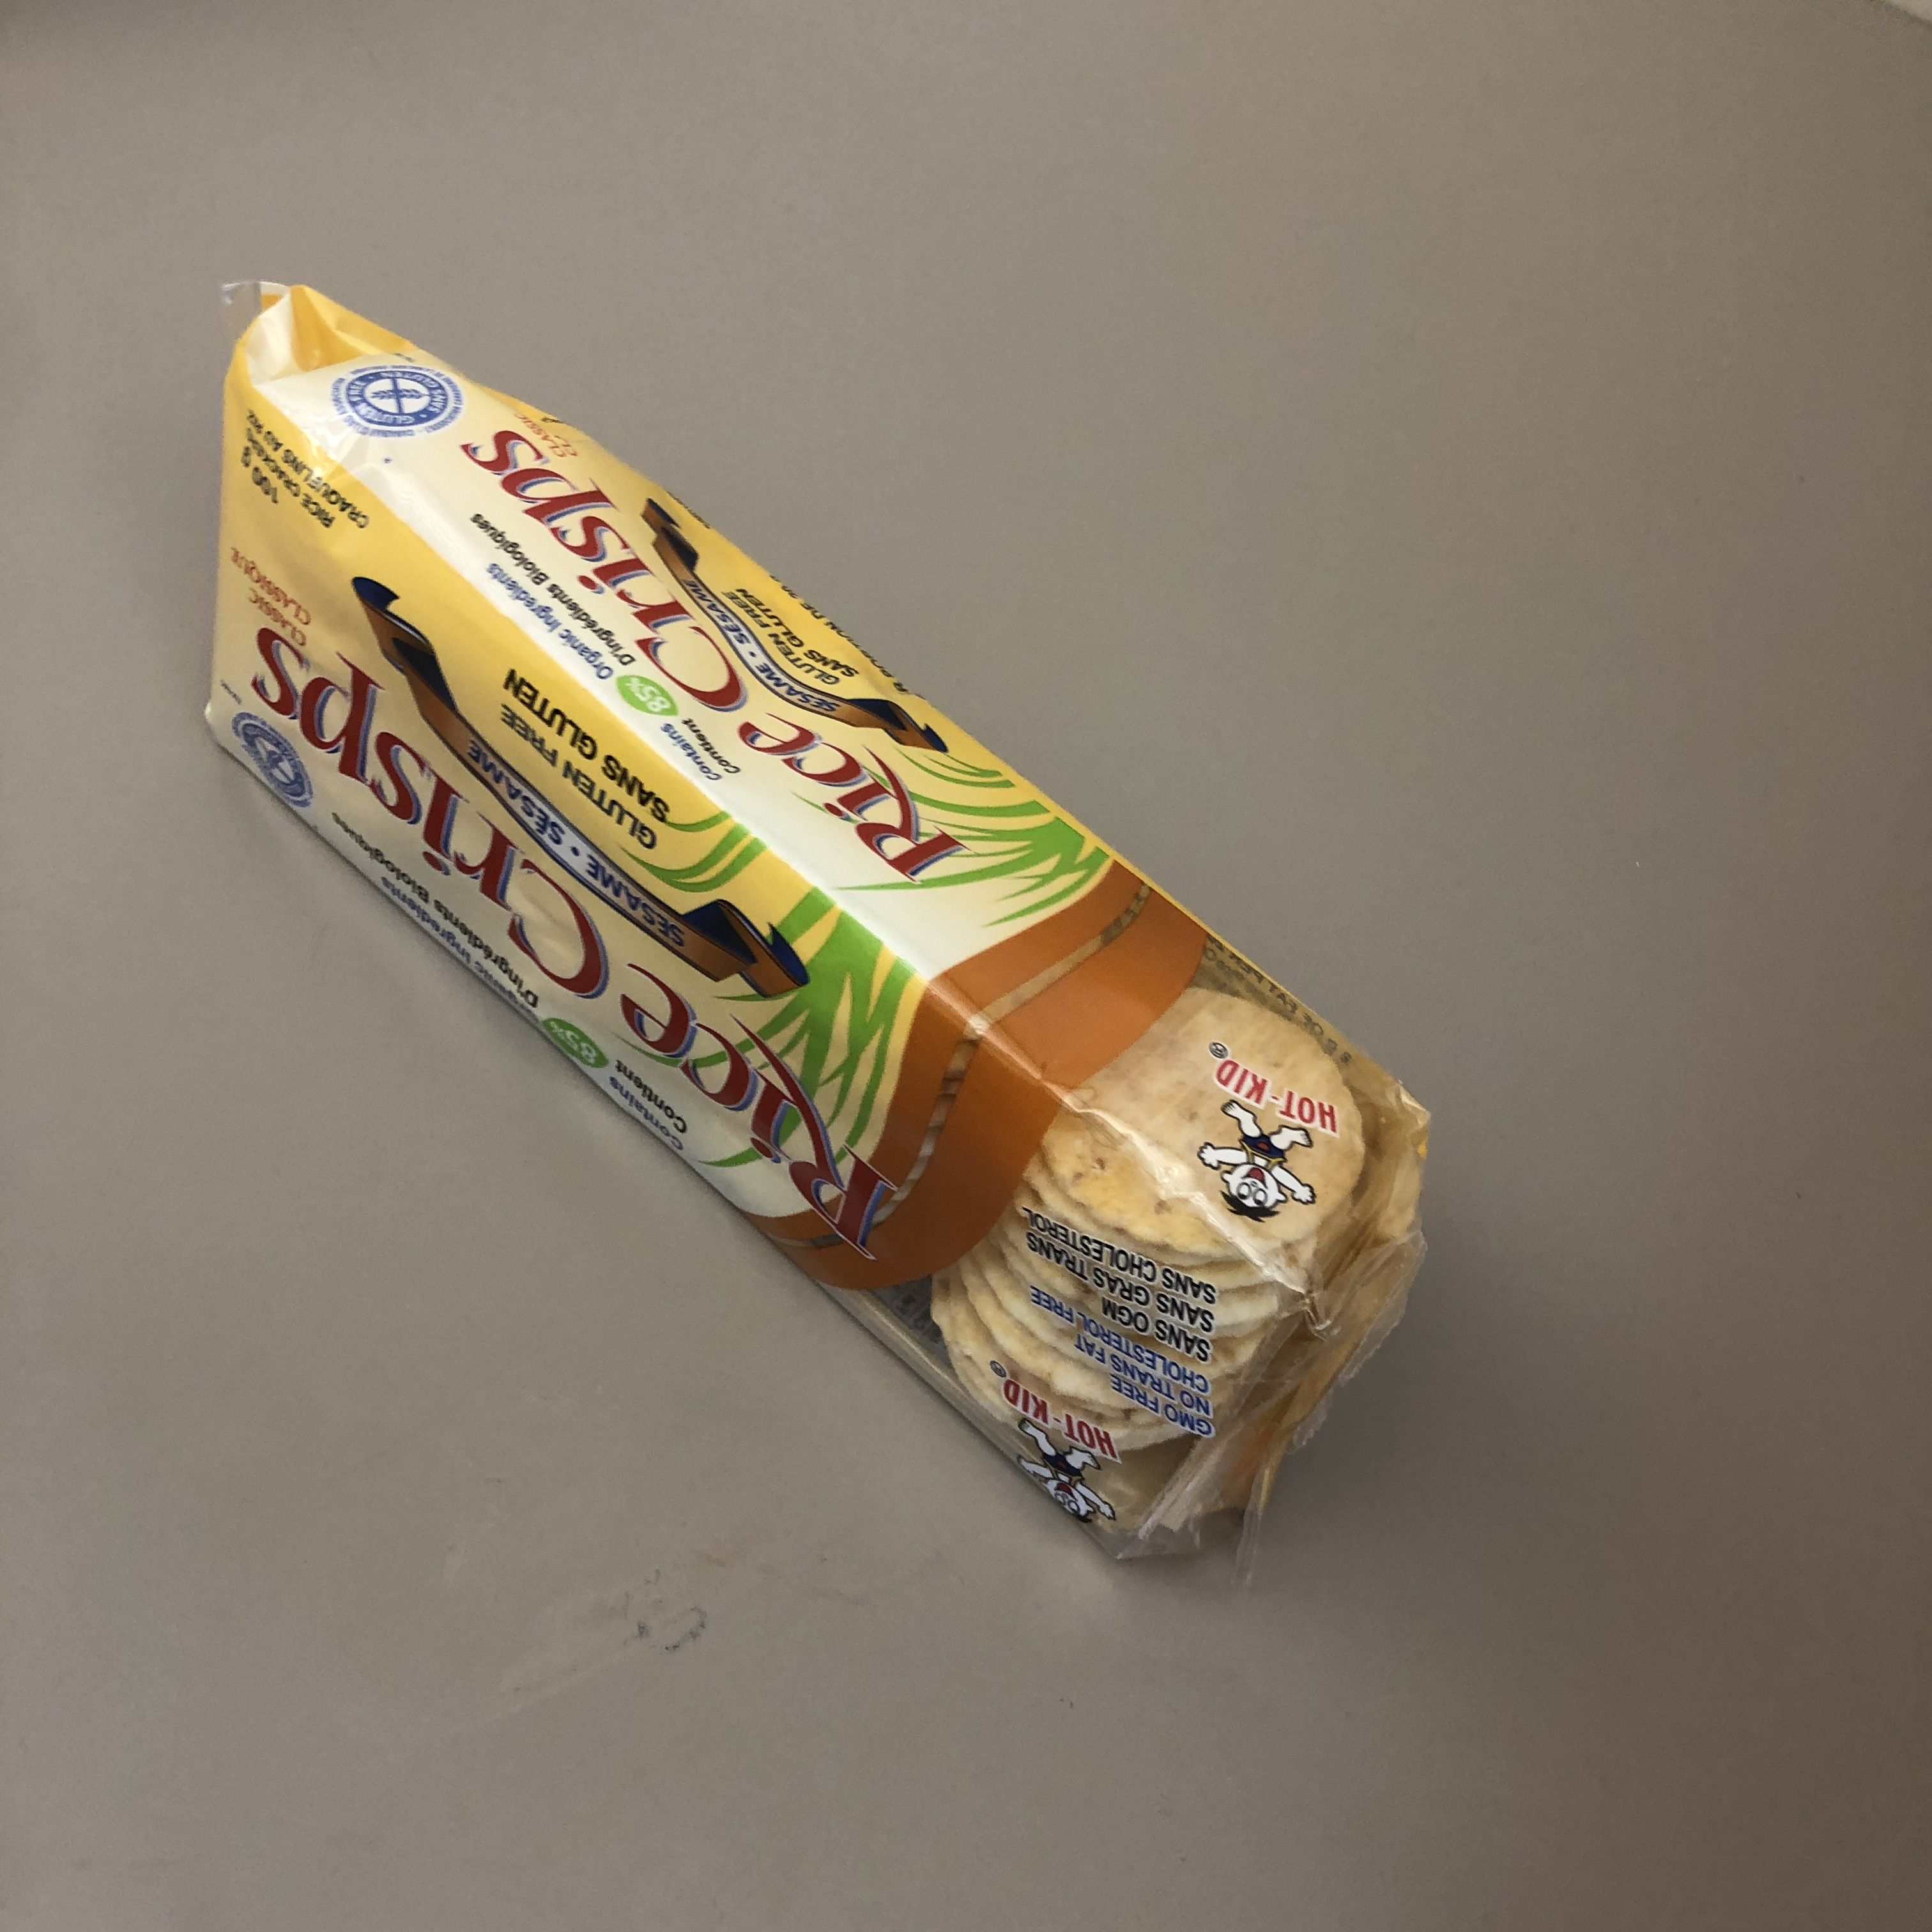hot_kid_rice_crisps_sesame: (382, 464, 1559, 1702)
